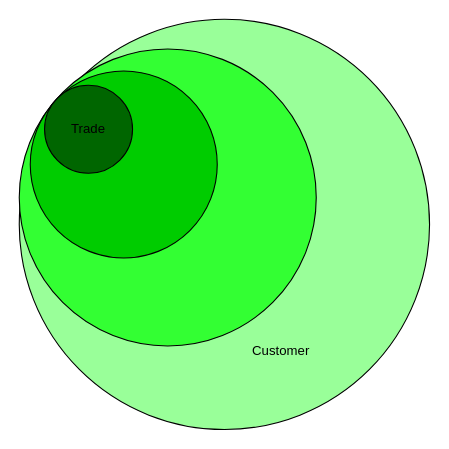
This 449x449 diagram has some shape labels left out. Here are the shapes that lost their labels. From the top down, the box of each, then its label:
(29, 70, 217, 258): Account
(18, 48, 316, 346): deposit and withdrawal
